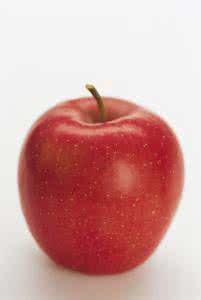apple: (20, 87, 183, 273)
